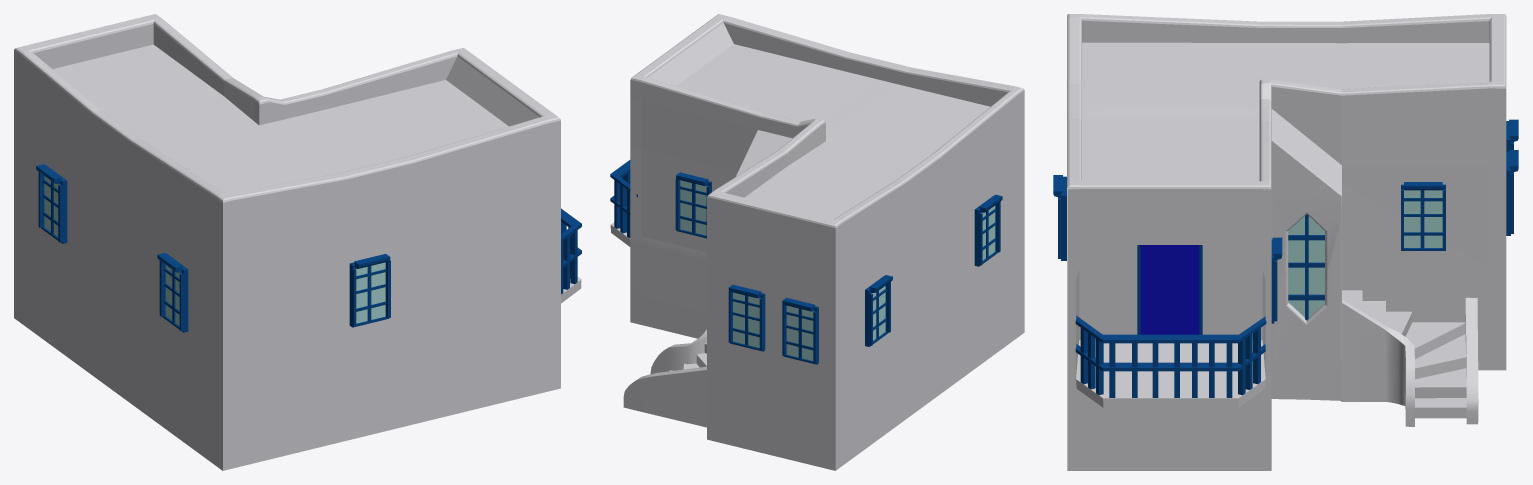
The model's file is House03.fbx.
3 renders of one model, left to right at view 1: azimuth 30°, elevation 25°; view 2: azimuth 150°, elevation 25°; view 3: azimuth 270°, elevation 25°, orthographic. The views are drawn at different scales.
Visible parts, largest first — view 1: House3, Window23, Window22, Window21, fence4; view 2: House3, Stairs1, Window19, Window20, Window18, Window22, Window21, fence4; view 3: House3, Stairs1, fence4, Door4, House3_Window, Window17, Window23, Window19, Window18.
Boxes of the visible parts, left/top/right/bottom form: House3: left=14, top=14, right=581, bottom=470; Window23: left=349, top=253, right=390, bottom=327; Window22: left=157, top=253, right=188, bottom=332; Window21: left=36, top=164, right=67, bottom=243; fence4: left=561, top=208, right=581, bottom=294; House3: left=610, top=14, right=1024, bottom=470; Stairs1: left=623, top=329, right=706, bottom=427; Window19: left=728, top=284, right=765, bottom=351; Window20: left=782, top=297, right=818, bottom=364; Window18: left=675, top=172, right=711, bottom=238; Window22: left=974, top=194, right=1002, bottom=266; Window21: left=865, top=275, right=892, bottom=346; fence4: left=610, top=160, right=637, bottom=238; House3: left=1067, top=14, right=1506, bottom=470; Stairs1: left=1341, top=290, right=1478, bottom=426; fence4: left=1075, top=315, right=1271, bottom=397; Door4: left=1137, top=245, right=1202, bottom=334; House3_Window: left=1288, top=214, right=1324, bottom=320; Window17: left=1401, top=182, right=1445, bottom=250; Window23: left=1053, top=175, right=1066, bottom=260; Window19: left=1506, top=150, right=1518, bottom=235; Window18: left=1271, top=237, right=1282, bottom=323.
Bounding box in the file's own units: 25.31 × 17.09 × 25.04.
